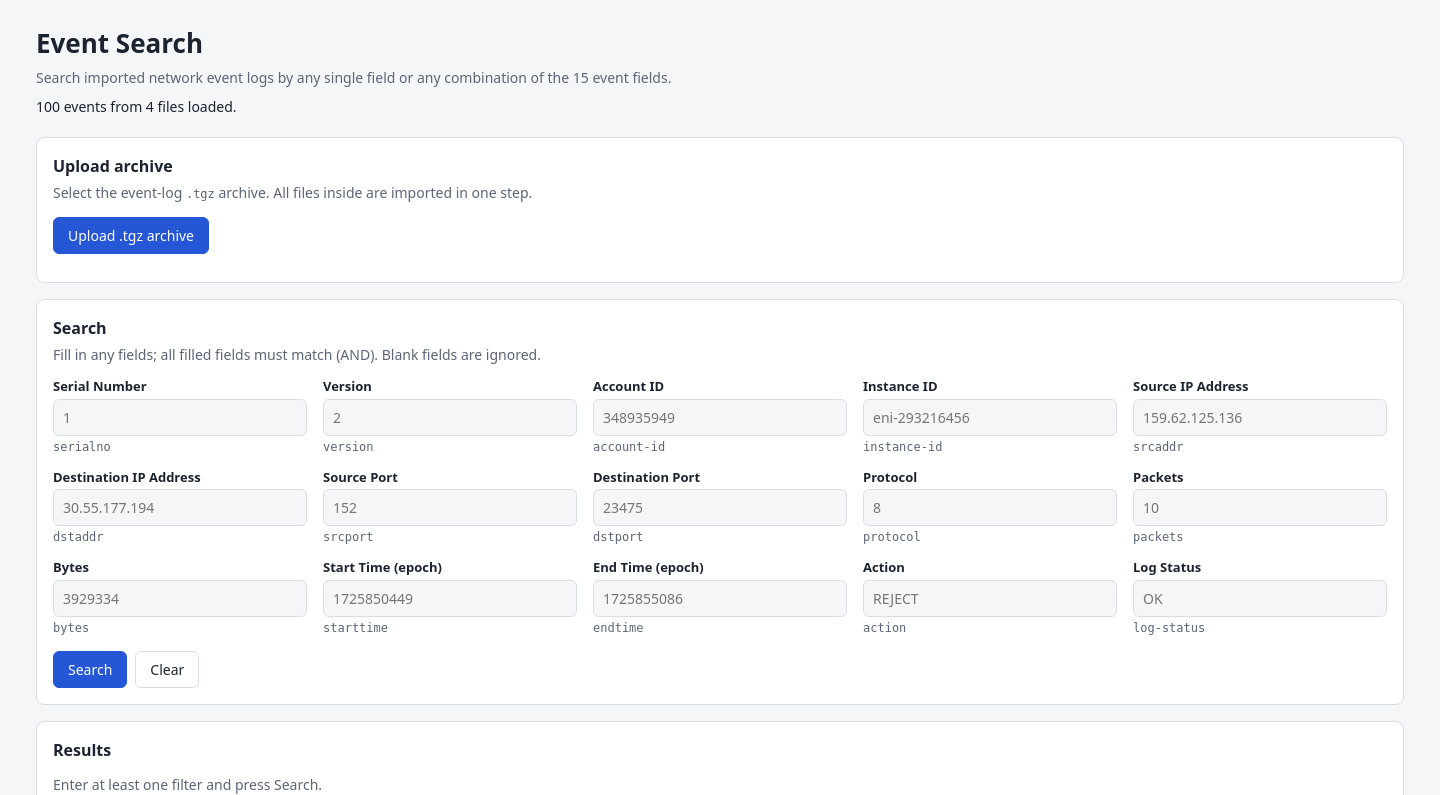
Test: search form › validates numeric fields on the client
The width and height of the screenshot is (1440, 795).
In the field labelled "Source Port": x=450, y=508 [323,489,577,526], type "12a"
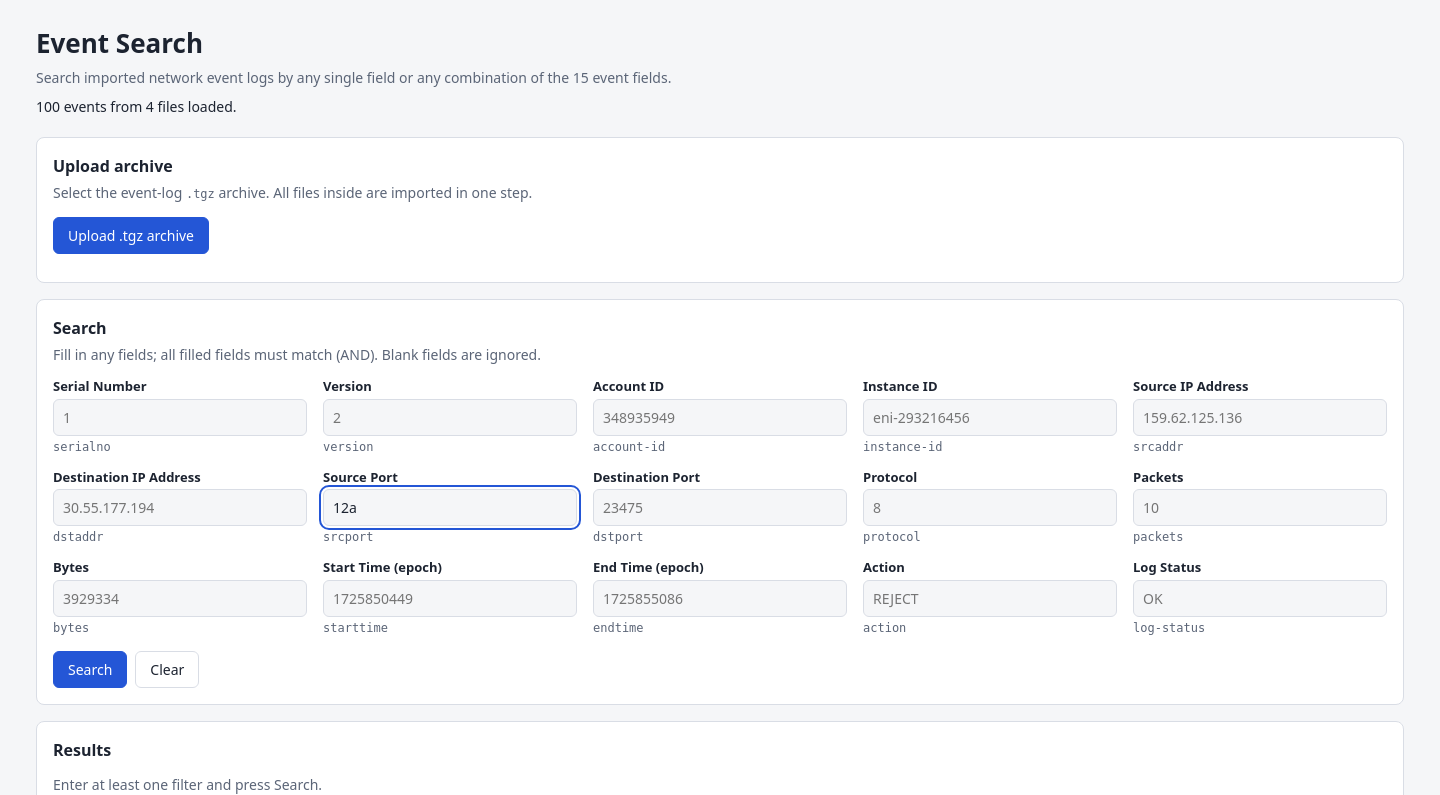
Click the button "Search": x=90, y=669 [53,650,127,688]
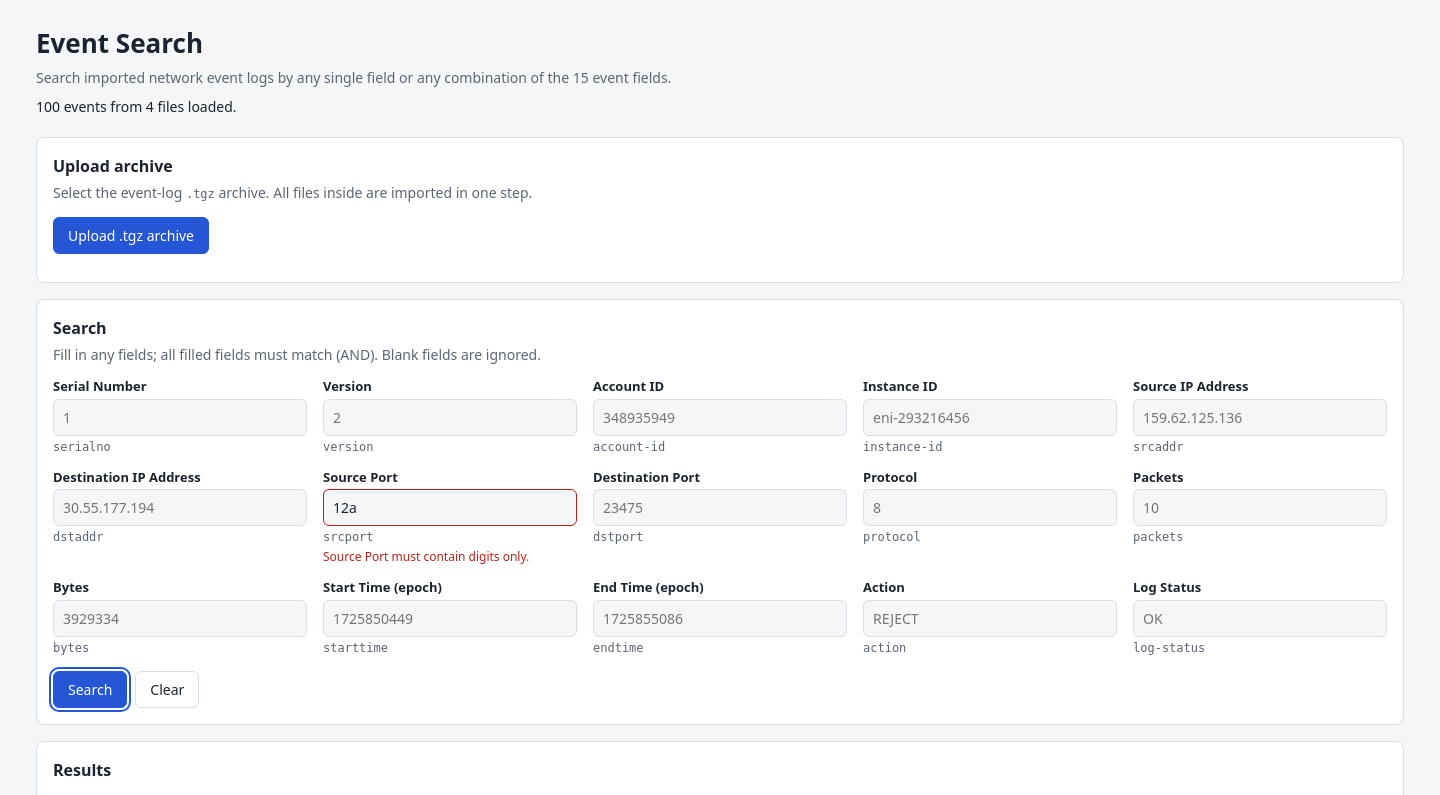
Check: the text "Source Port must contain digits only." is shown, box [323,548,529,565]
